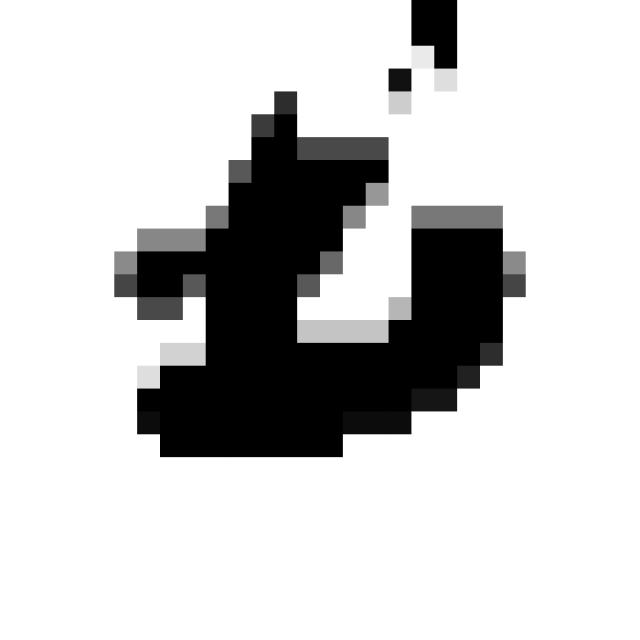0 -zero-: (102, 0, 544, 475)
